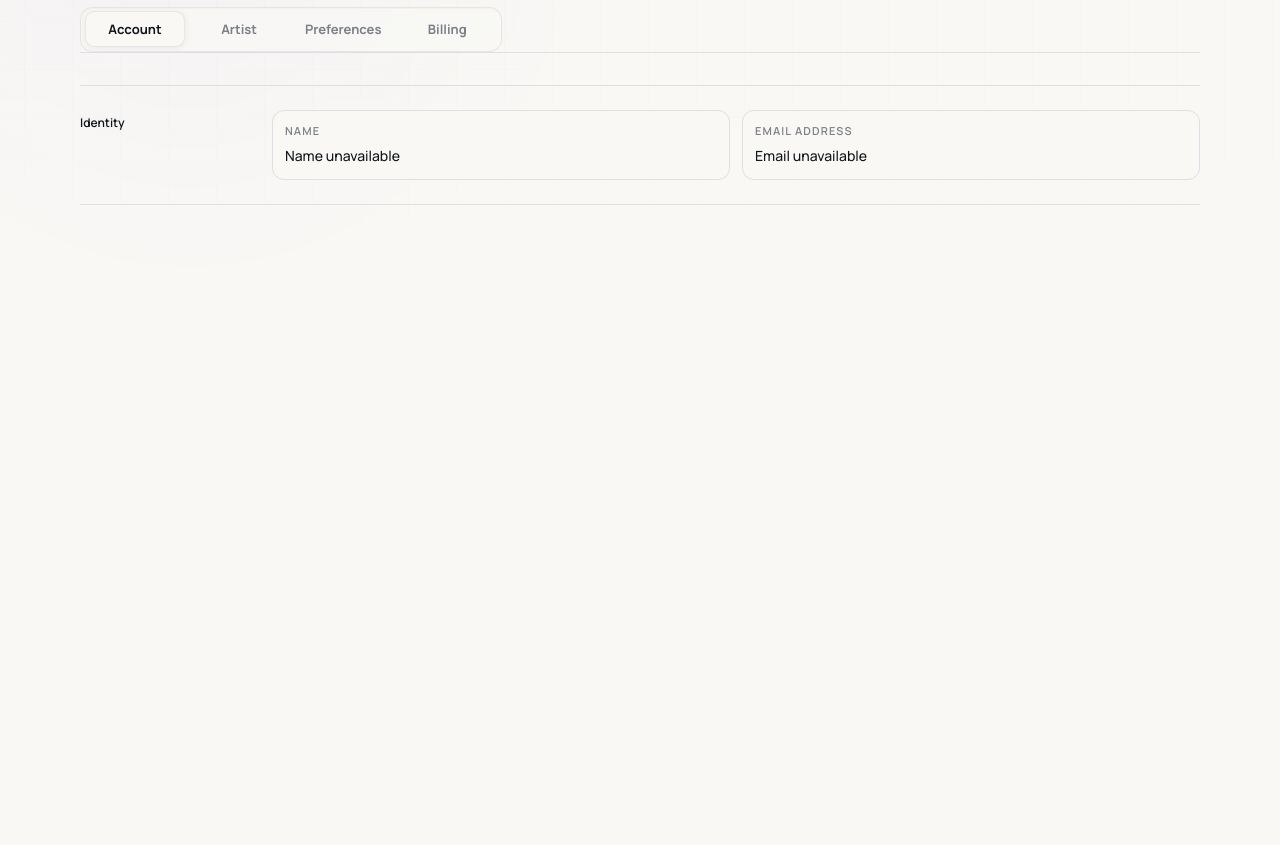
Test: SettingsScreen › lets users edit manual profile fields without exposing provider plumbing
Click the tab "Artist": [239, 29] box [189,11,290,47]
(page scrolled)
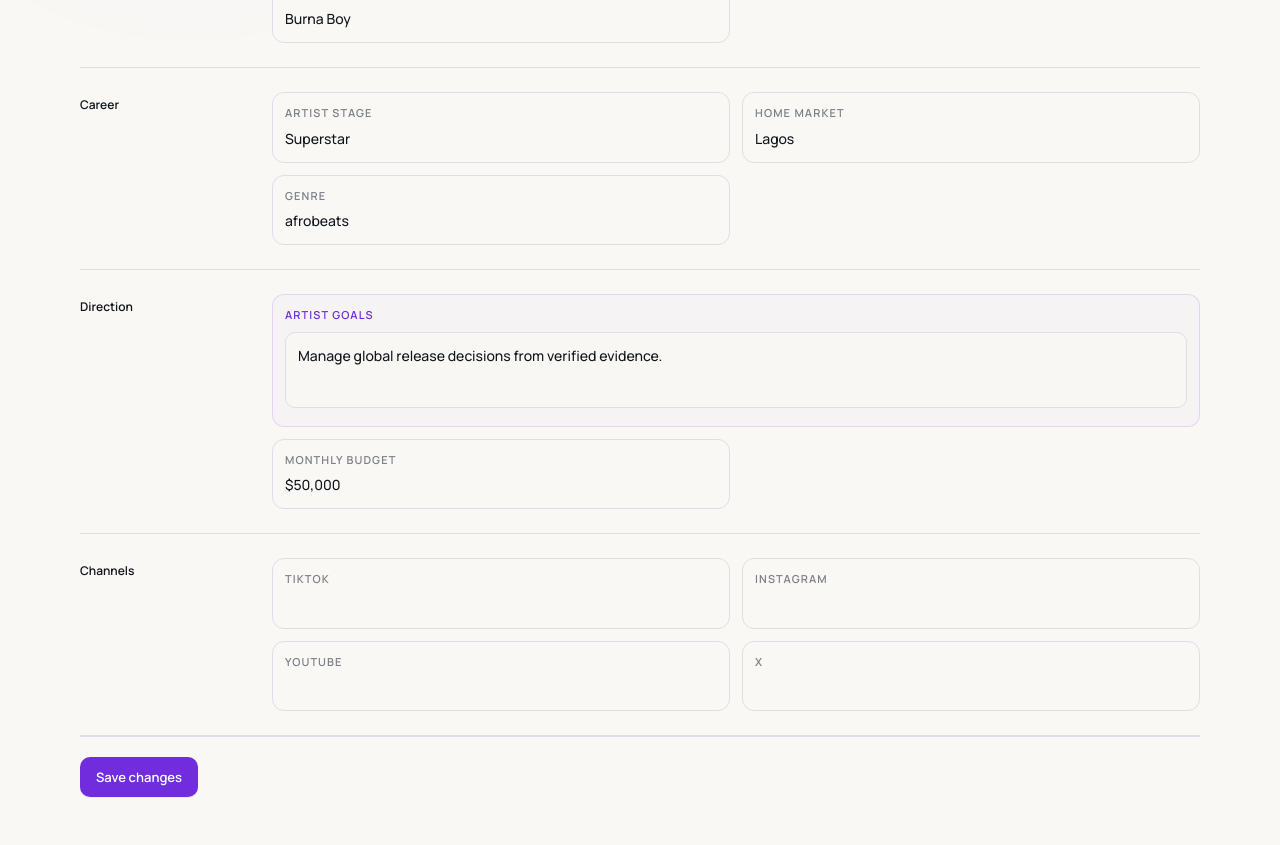
Result: the field labelled "Artist name" is enabled at [285,8,717,29]
Result: the field labelled "Artist stage" is enabled at [285,128,717,149]
Result: the field labelled "Home market" is enabled at [755,128,1187,149]
